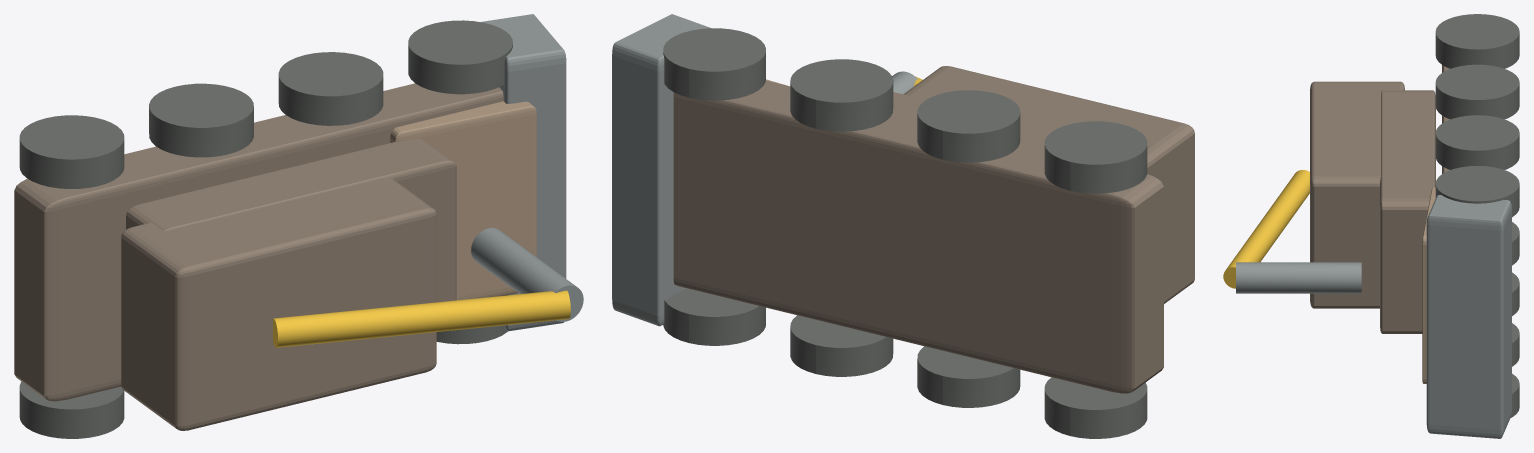
File: d-u18-dominion-recovery-vehicle-lod1.glb
The picture shows the model from 3 angles, left to right: view 1: azimuth 30°, elevation 25°; view 2: azimuth 150°, elevation 25°; view 3: azimuth 270°, elevation 25°; orthographic projection. The views are drawn at different scales.
Visible parts, largest first — view 1: recovery_superstructure, chassis_lower, chassis_nose, upper_hull, dozer_blade, service_boom, chassis_wheel_1_0, chassis_wheel_1_2, chassis_wheel_1_1, chassis_wheel_1_3, chassis_wheel_-1_0, winch (+1 smaller); view 2: chassis_lower, dozer_blade, recovery_superstructure, chassis_wheel_1_1, chassis_wheel_1_0, chassis_wheel_1_2, chassis_wheel_1_3, chassis_wheel_-1_0, chassis_wheel_-1_2, chassis_wheel_-1_1, chassis_wheel_-1_3, upper_hull; view 3: dozer_blade, recovery_superstructure, upper_hull, chassis_wheel_1_1, chassis_wheel_1_0, chassis_wheel_1_2, winch, service_boom, chassis_wheel_1_3, chassis_nose, chassis_wheel_-1_3, chassis_wheel_-1_0 (+2 smaller).
Boxes of the visible parts, bbox=[...] form: recovery_superstructure: bbox=[121, 178, 436, 430]; chassis_lower: bbox=[14, 83, 503, 401]; chassis_nose: bbox=[390, 101, 536, 300]; upper_hull: bbox=[126, 139, 456, 302]; dozer_blade: bbox=[480, 14, 566, 331]; service_boom: bbox=[273, 290, 570, 347]; chassis_wheel_1_0: bbox=[19, 115, 124, 188]; chassis_wheel_1_2: bbox=[278, 52, 383, 125]; chassis_wheel_1_1: bbox=[149, 83, 253, 157]; chassis_wheel_1_3: bbox=[408, 20, 512, 94]; chassis_wheel_-1_0: bbox=[19, 381, 124, 438]; winch: bbox=[471, 228, 583, 321]; chassis_lower: bbox=[673, 80, 1163, 393]; dozer_blade: bbox=[612, 14, 711, 326]; recovery_superstructure: bbox=[903, 66, 1194, 303]; chassis_wheel_1_1: bbox=[917, 90, 1020, 162]; chassis_wheel_1_0: bbox=[1044, 121, 1147, 193]; chassis_wheel_1_2: bbox=[790, 59, 893, 131]; chassis_wheel_1_3: bbox=[663, 28, 765, 100]; chassis_wheel_-1_0: bbox=[1044, 377, 1147, 438]; chassis_wheel_-1_2: bbox=[790, 315, 893, 376]; chassis_wheel_-1_1: bbox=[917, 346, 1020, 407]; chassis_wheel_-1_3: bbox=[663, 288, 765, 345]; upper_hull: bbox=[893, 92, 1052, 148]; dozer_blade: bbox=[1426, 195, 1511, 438]; recovery_superstructure: bbox=[1310, 81, 1404, 308]; upper_hull: bbox=[1380, 90, 1435, 333]; chassis_wheel_1_1: bbox=[1435, 64, 1519, 119]; chassis_wheel_1_0: bbox=[1435, 14, 1519, 68]; chassis_wheel_1_2: bbox=[1435, 115, 1519, 169]; winch: bbox=[1236, 262, 1361, 293]; service_boom: bbox=[1223, 170, 1309, 288]; chassis_wheel_1_3: bbox=[1435, 166, 1519, 217]; chassis_nose: bbox=[1422, 187, 1435, 383]; chassis_wheel_-1_3: bbox=[1510, 373, 1519, 417]; chassis_wheel_-1_0: bbox=[1512, 222, 1519, 265].
Size of what is drawn, in the model's own units: 7.9 by 4.01 by 4.81.
